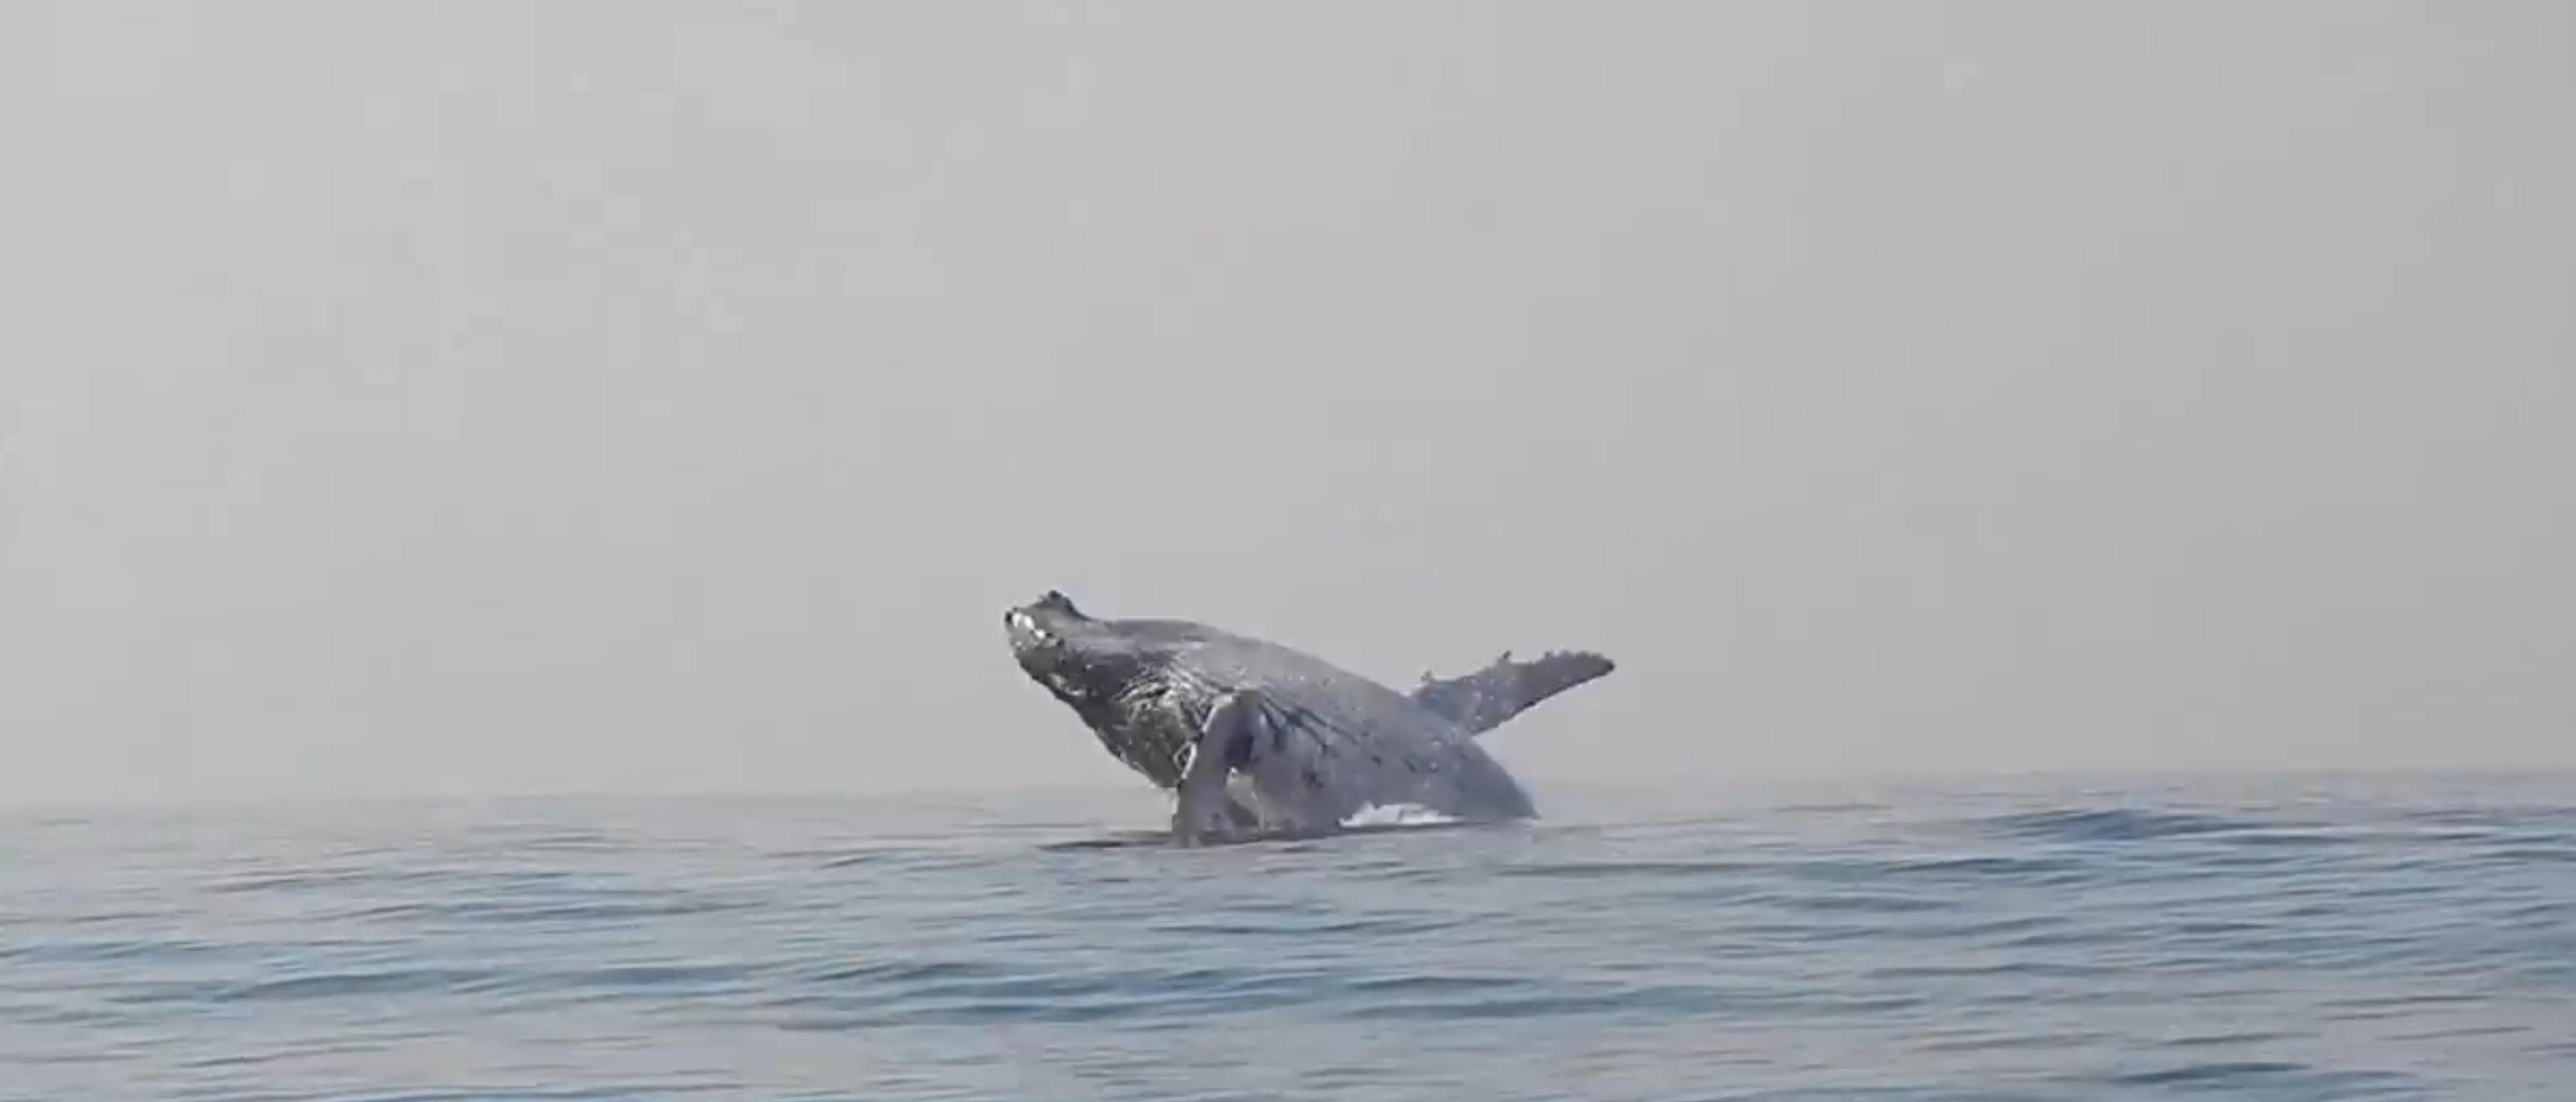humpback: (1001, 580, 1539, 829)
